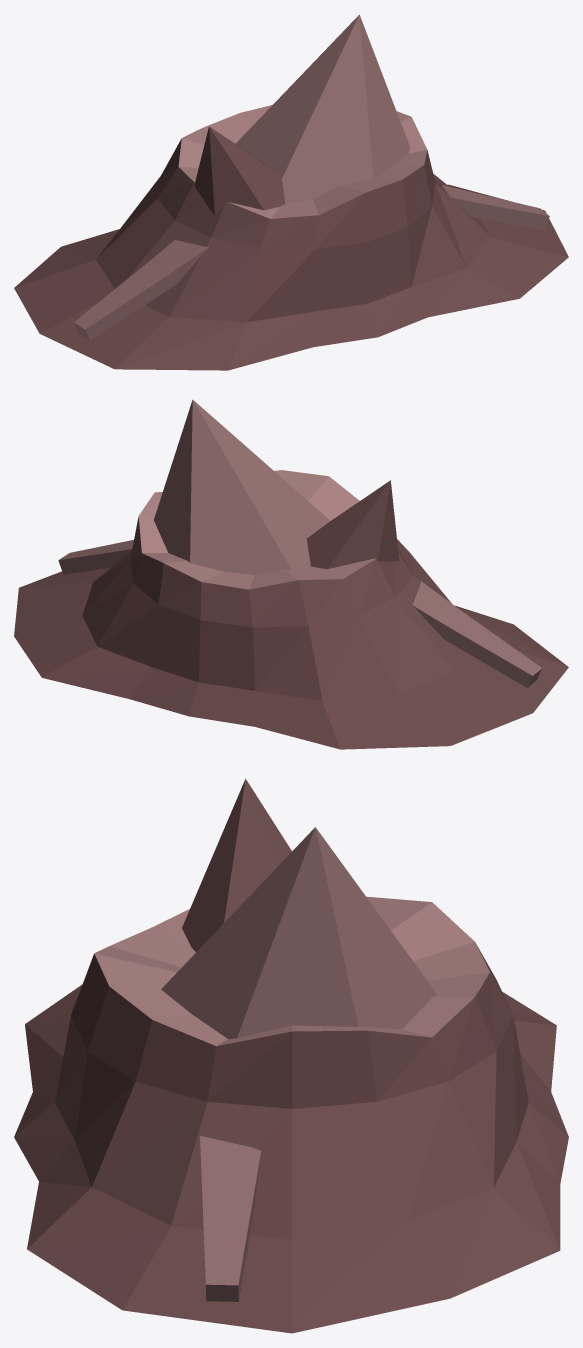
Rendered from stump_harbinger_smashed_1.obj.
3 views of the same model, one above another, from view 1: azimuth 30°, elevation 25°; view 2: azimuth 150°, elevation 25°; view 3: azimuth 270°, elevation 25° (orthographic). The views are drawn at different scales.
Visible parts, largest first — view 1: stump_harbinger_smashed_1; view 2: stump_harbinger_smashed_1; view 3: stump_harbinger_smashed_1.
Part boxes in pixels (bbox=[...]): stump_harbinger_smashed_1: bbox=[14, 14, 568, 370]; stump_harbinger_smashed_1: bbox=[14, 399, 568, 749]; stump_harbinger_smashed_1: bbox=[14, 778, 568, 1333].
Bounding box in the file's own units: 0.7906 × 0.35 × 0.4766.
